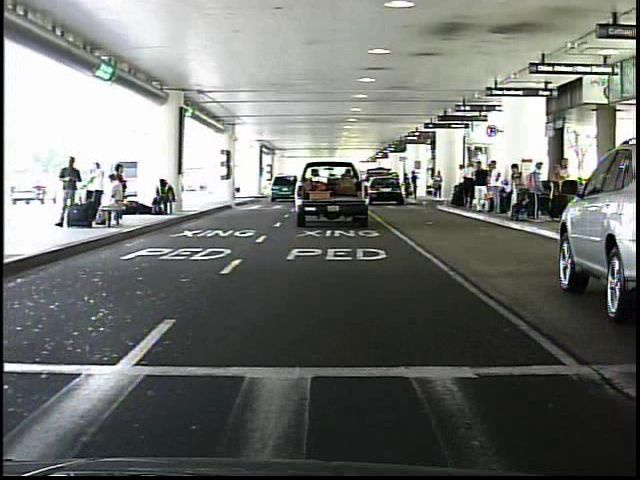person: (59, 154, 85, 230), (469, 158, 492, 220), (487, 160, 505, 219), (453, 159, 473, 211), (433, 166, 449, 206), (402, 170, 413, 203), (410, 170, 421, 203)
